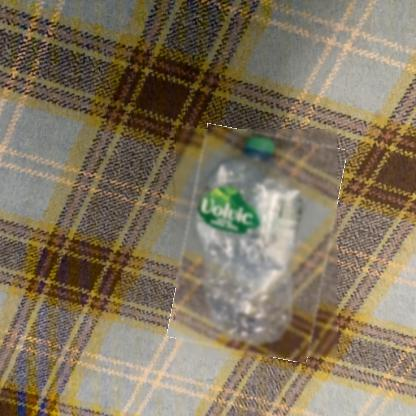plastic-bottles: (177, 130, 339, 359)
